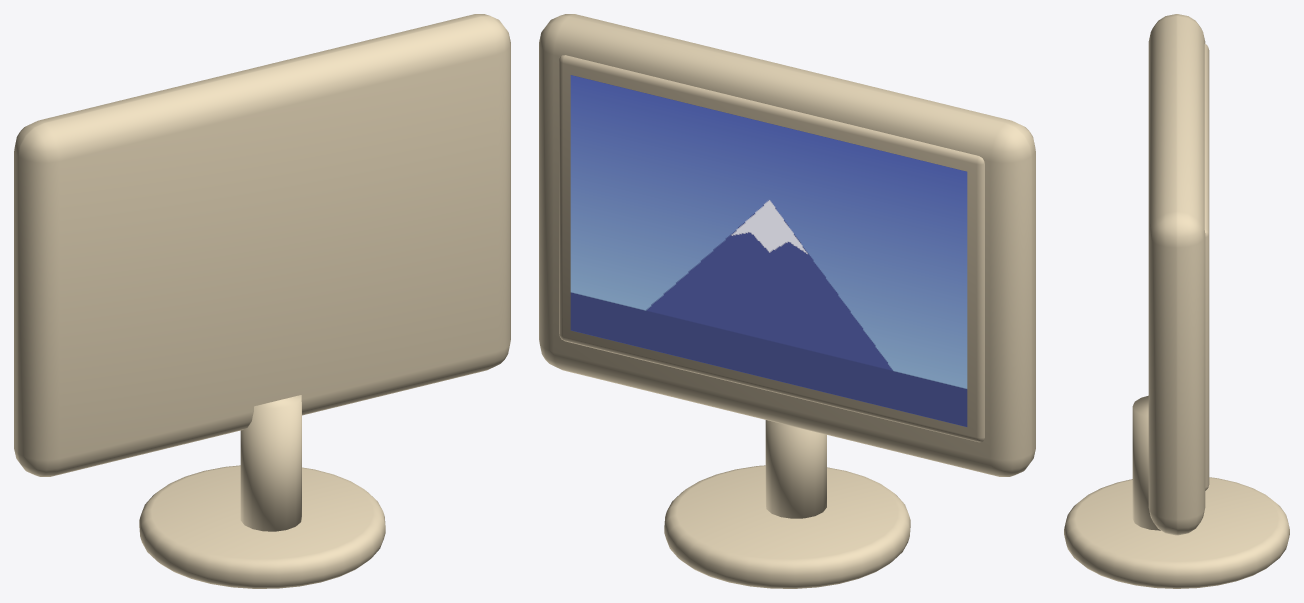
Rendered from monitor.glb.
The picture shows the model from 3 angles, left to right: view 1: azimuth 30°, elevation 25°; view 2: azimuth 150°, elevation 25°; view 3: azimuth 270°, elevation 25°; orthographic projection. The views are drawn at different scales.
Visible parts, largest first — view 1: Monitor; view 2: Monitor; view 3: Monitor.
Boxes of the visible parts, left/top/right/bottom form: Monitor: left=14, top=14, right=510, bottom=588; Monitor: left=539, top=14, right=1035, bottom=588; Monitor: left=1064, top=14, right=1289, bottom=588.
Bounding box in the file's own units: 0.64 × 0.59 × 0.28.
3 materials, 1 textured.
